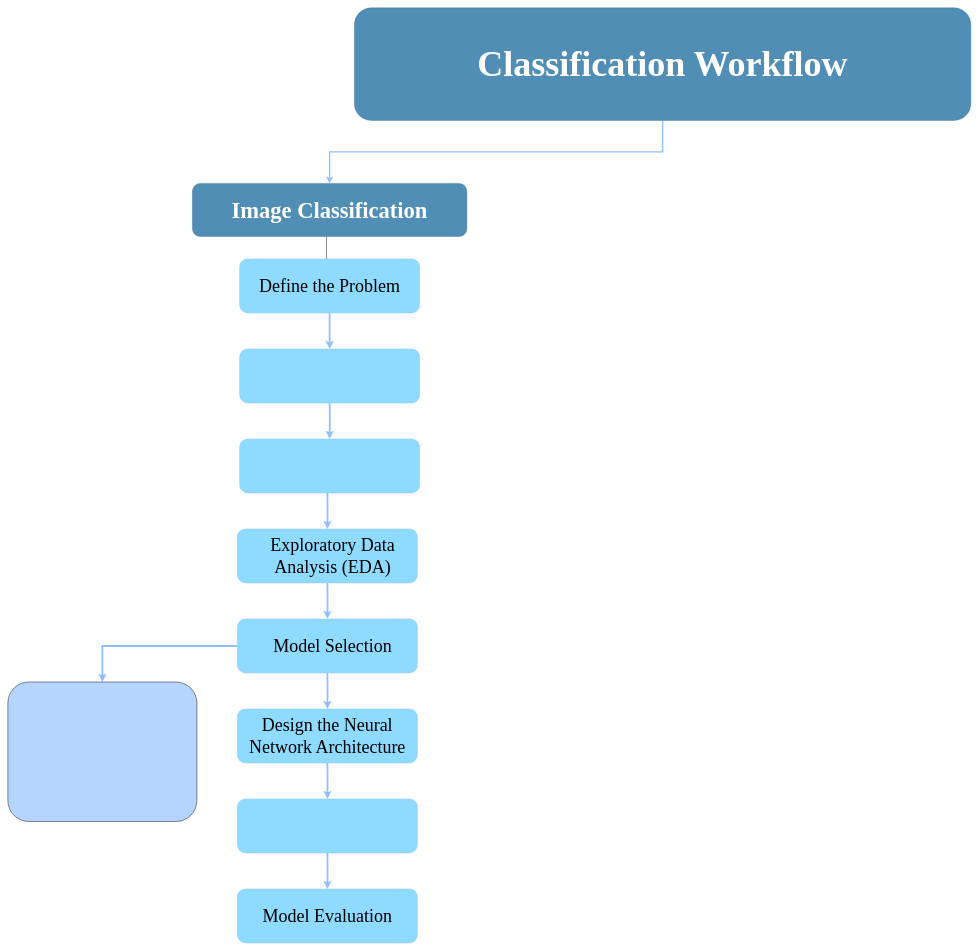
The diagram is 979 pixels wide and 951 high, and some of its shapes have lost their labels. Here are the shapes that lost their labels. From the top down, the centre of each, then its label:
At point 329,376: "Data Collection".
At point 329,466: "Data Preperation".
At point 102,751: "ResNet VGG19 Inception MobileNet EffiecentNet".
At point 327,826: "Model Training".
